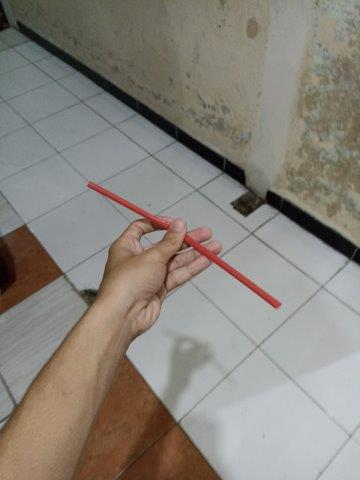sedotan: (88, 182, 279, 306)
